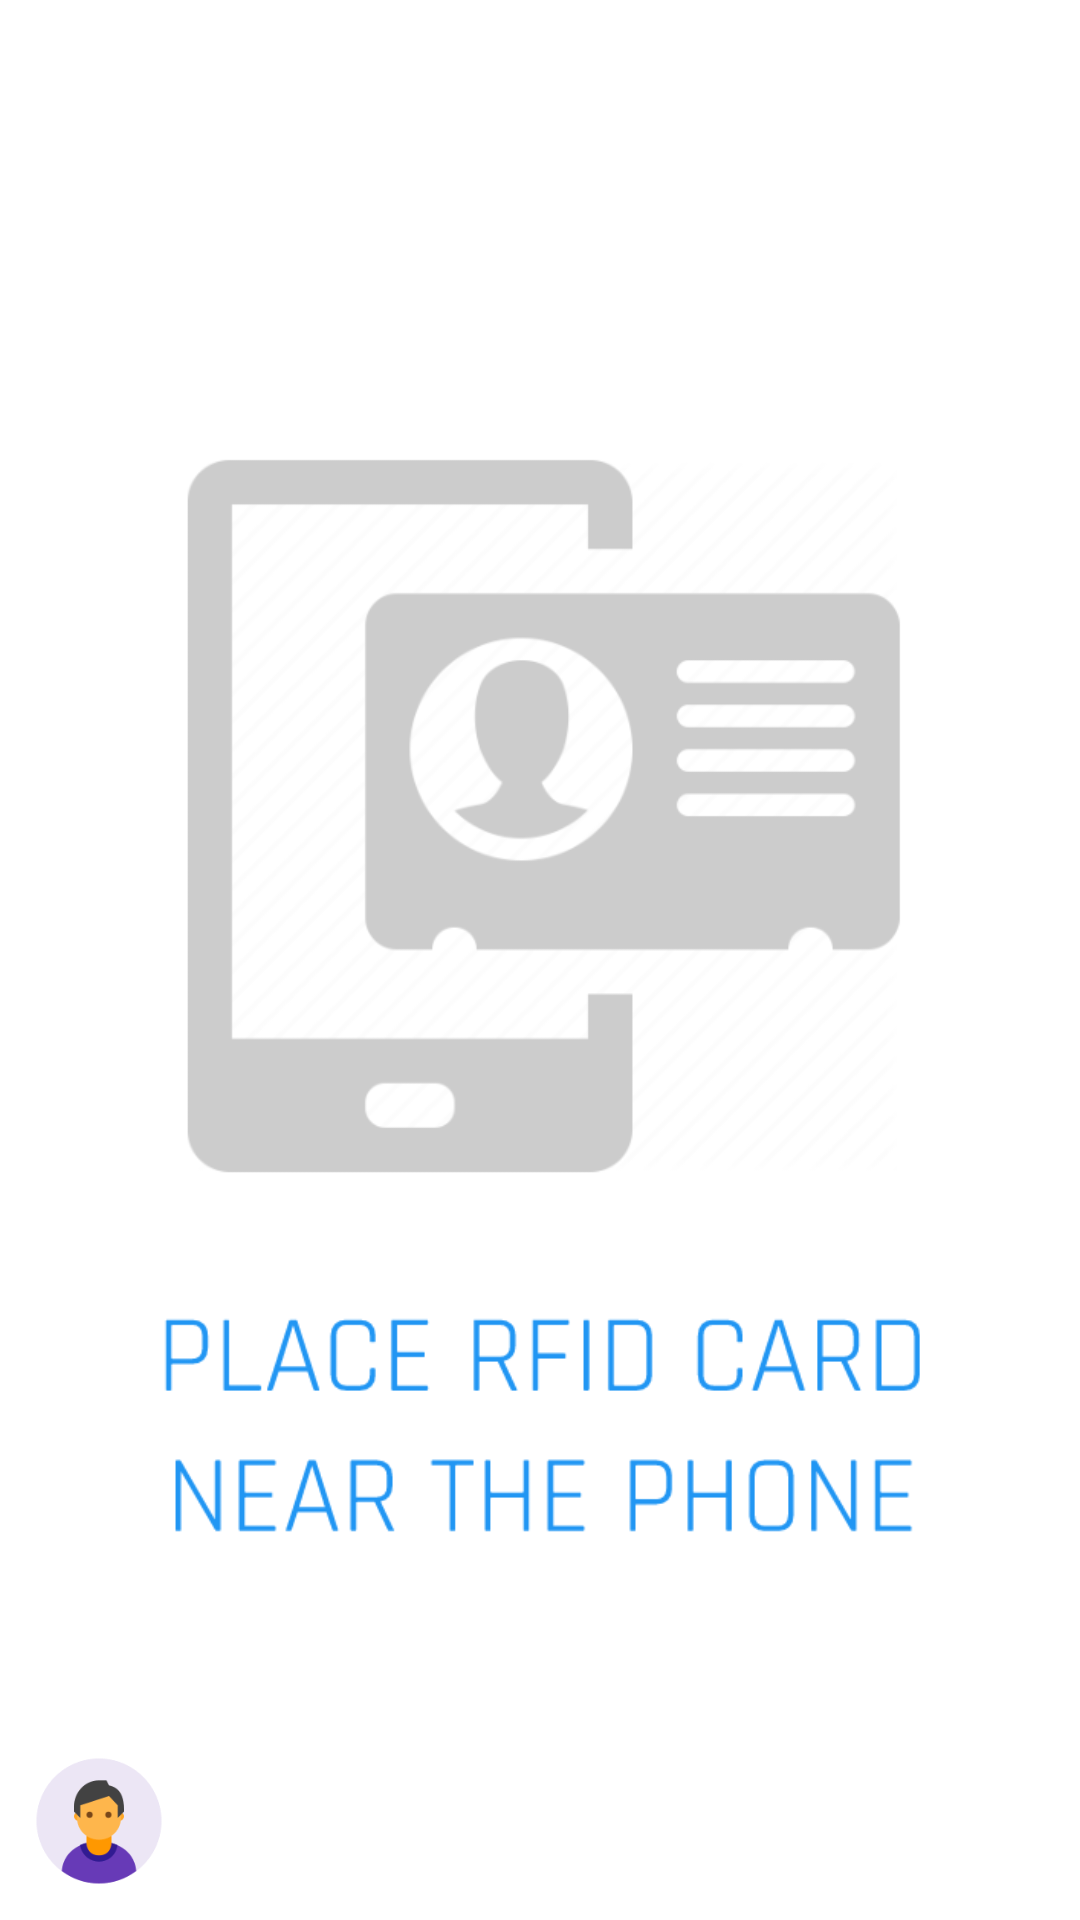

Screen size 1080px x 1920px. Icon name, then its box in pixels as (x1, y1, x2, y2):
adminmale: (37, 1759, 161, 1884)
